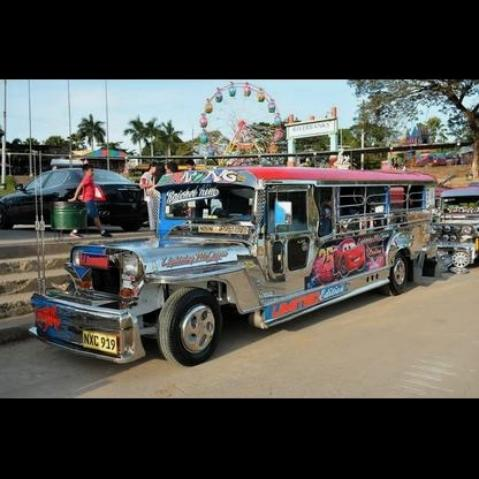jeepney: (35, 168, 442, 371)
